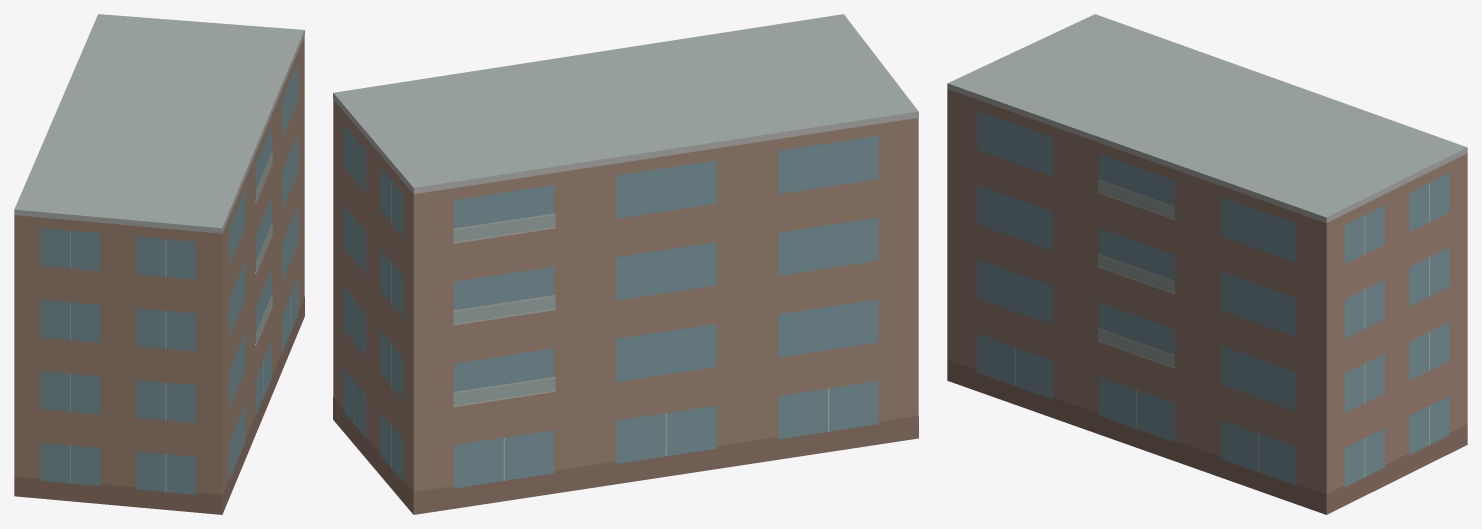
Rendered from survey-upis-32677869.glb.
3 views of the same model, side by side, from view 1: azimuth 30°, elevation 25°; view 2: azimuth 150°, elevation 25°; view 3: azimuth 270°, elevation 25° (orthographic). The views are drawn at different scales.
Visible parts, largest first — view 1: survey-upis-32677869.tmp; view 2: survey-upis-32677869.tmp; view 3: survey-upis-32677869.tmp.
Part boxes in pixels (box(x1,y1,x2,y2)): survey-upis-32677869.tmp: box(14, 14, 304, 514); survey-upis-32677869.tmp: box(333, 14, 918, 514); survey-upis-32677869.tmp: box(947, 14, 1467, 514).
Size of the model in its own units: 18.8 by 12.8 by 20.3.
